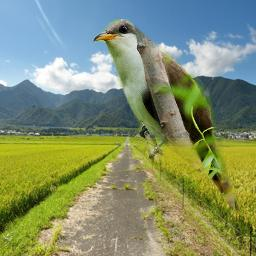Cuckoo: (88, 19, 249, 212)
